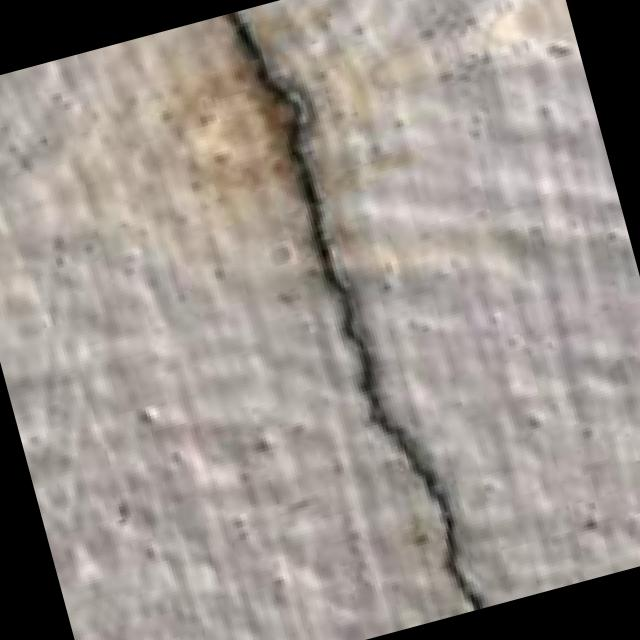crack: (194, 0, 516, 637)
